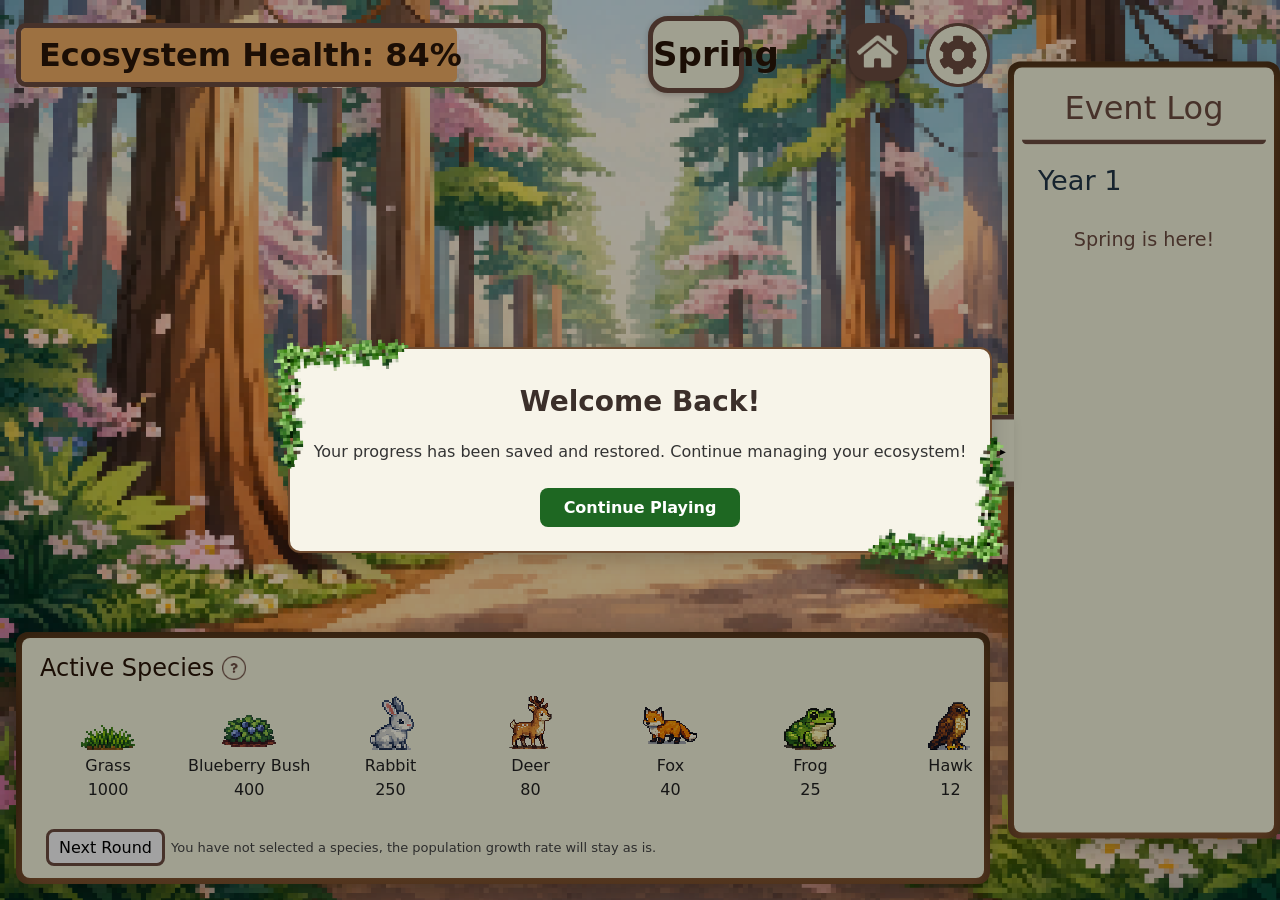
Test: Resume Popup after Save and Exit › ResumePopup closes when "Continue Playing" is clicked
expect the heading "Welcome Back!" is shown: met, box [520, 381, 760, 423]
Note: Click "Continue Playing" button
Click the button "Continue Playing" at (640, 508), box [540, 488, 740, 527]
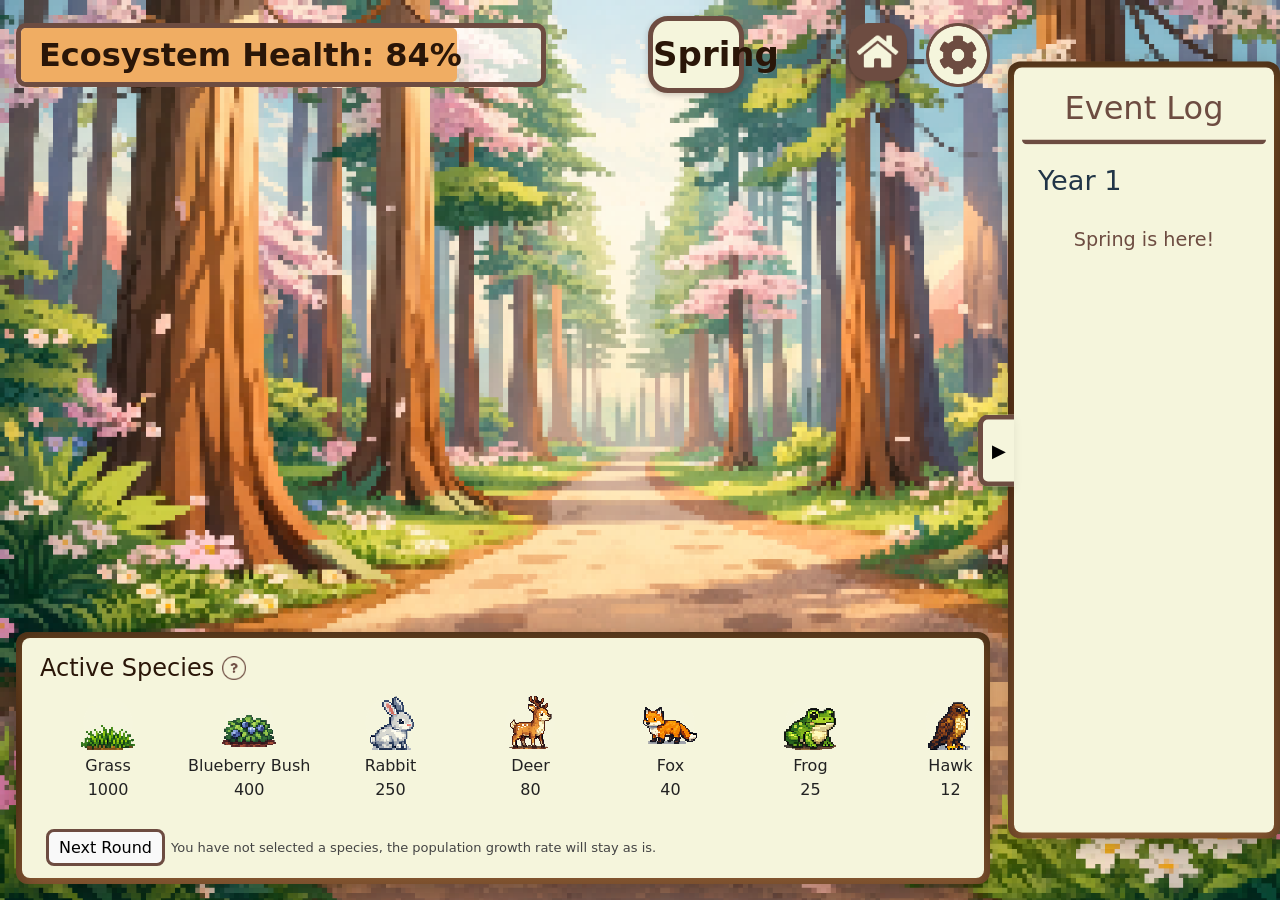
expect the heading "Welcome Back" is gone: met
